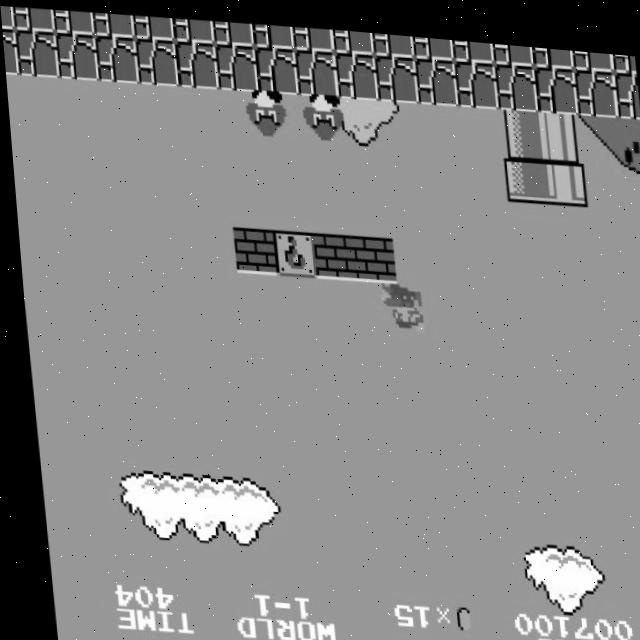1- brick_block: (348, 228, 393, 278), (308, 226, 353, 276), (228, 222, 273, 271)
11- little_mario: (375, 275, 422, 327)
13- mystery_block: (268, 224, 313, 274)
14- pipe: (537, 101, 582, 151), (497, 99, 542, 149)
15- pipe_head: (541, 147, 586, 197), (501, 145, 546, 194)
17- undestructible_block: (573, 57, 618, 107), (533, 55, 578, 105), (493, 53, 538, 103), (453, 51, 498, 101), (413, 49, 458, 99), (373, 46, 418, 96), (333, 45, 378, 95), (293, 42, 338, 92), (253, 41, 298, 91), (213, 38, 258, 88), (173, 36, 218, 86), (133, 34, 178, 84), (93, 32, 138, 82), (53, 30, 98, 80), (14, 28, 59, 78), (614, 60, 640, 107), (252, 18, 294, 45), (212, 16, 254, 43), (172, 13, 214, 40), (132, 12, 174, 39), (92, 9, 134, 36), (12, 5, 54, 32), (331, 23, 373, 49), (291, 20, 333, 46), (52, 8, 94, 34), (371, 26, 413, 51), (411, 29, 453, 53), (491, 34, 533, 57), (451, 32, 493, 55), (531, 37, 573, 59), (571, 40, 613, 61), (2, 28, 19, 75), (612, 43, 635, 61), (0, 6, 14, 29)
8- goomba: (299, 86, 346, 139), (242, 83, 289, 136)
